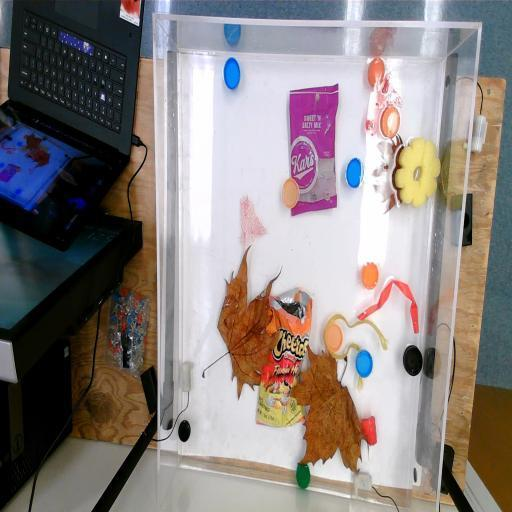Bottle Cap: (402, 344, 424, 378), (380, 104, 400, 138), (282, 176, 300, 210), (346, 156, 364, 190), (223, 56, 241, 90), (367, 57, 385, 88), (356, 348, 374, 378), (361, 260, 379, 290), (326, 323, 344, 352), (296, 462, 312, 490), (178, 418, 192, 442)
Cone Cap: (362, 414, 378, 448)
Leaf: (200, 244, 284, 402), (288, 343, 364, 472), (372, 132, 409, 216)
Netting: (365, 72, 404, 140), (238, 192, 270, 256)
Plastic Bag: (254, 286, 314, 428), (288, 82, 340, 218)
Plastic Strand: (322, 312, 390, 392), (356, 278, 420, 334)
Sponge: (394, 136, 441, 208)
